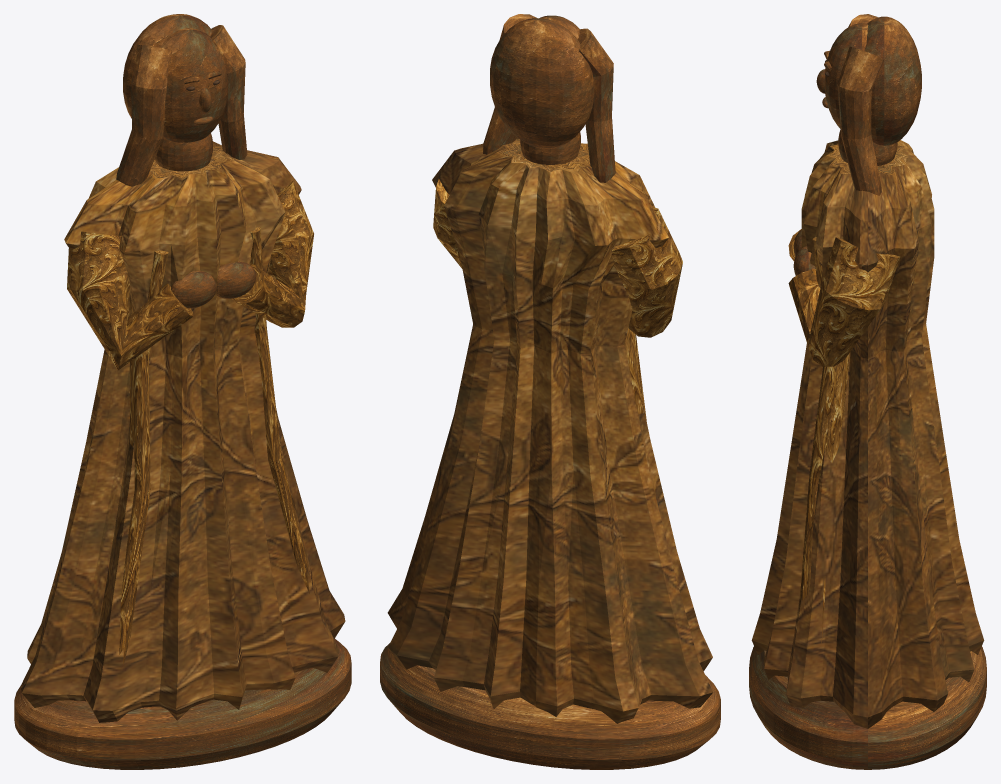
File: statuette.obj
The picture shows the model from 3 angles, left to right: view 1: azimuth 30°, elevation 25°; view 2: azimuth 150°, elevation 25°; view 3: azimuth 270°, elevation 25°; orthographic projection. The views are drawn at different scales.
Visible parts, largest first — view 1: robe, plinth, sleeve-1, sleeve1, robe_fold-1, head, hair-1, robe_fold1, hair1, hair_back, neck, hand-1 (+1 smaller); view 2: robe, plinth, hair_back, sleeve-1, hair-1, neck, hair1, sleeve1, robe_fold-1; view 3: robe, plinth, sleeve1, hair_back, hair1, robe_fold1, head, neck.
Part boxes in pixels (x1=…): robe: x1=20, y1=141, x2=345, y2=722; plinth: x1=14, y1=638, x2=351, y2=769; sleeve-1: x1=67, y1=231, x2=193, y2=370; sleeve1: x1=232, y1=181, x2=313, y2=327; robe_fold-1: x1=119, y1=250, x2=168, y2=665; head: x1=161, y1=28, x2=228, y2=142; hair-1: x1=116, y1=45, x2=172, y2=186; robe_fold1: x1=250, y1=227, x2=309, y2=593; hair1: x1=210, y1=25, x2=247, y2=159; hair_back: x1=123, y1=14, x2=212, y2=117; neck: x1=155, y1=133, x2=212, y2=171; hand-1: x1=171, y1=271, x2=216, y2=308; robe: x1=387, y1=137, x2=713, y2=723; plinth: x1=380, y1=643, x2=720, y2=769; hair_back: x1=490, y1=18, x2=594, y2=147; sleeve-1: x1=611, y1=207, x2=682, y2=337; hair-1: x1=577, y1=28, x2=615, y2=182; neck: x1=520, y1=132, x2=580, y2=164; hair1: x1=483, y1=14, x2=537, y2=154; sleeve1: x1=433, y1=179, x2=462, y2=268; robe_fold-1: x1=624, y1=328, x2=646, y2=420; robe: x1=751, y1=140, x2=984, y2=728; plinth: x1=749, y1=646, x2=986, y2=769; sleeve1: x1=788, y1=237, x2=900, y2=366; hair_back: x1=865, y1=16, x2=921, y2=145; hair1: x1=837, y1=46, x2=884, y2=195; robe_fold1: x1=798, y1=237, x2=849, y2=643; head: x1=825, y1=23, x2=868, y2=128; neck: x1=838, y1=129, x2=897, y2=165.
Size of the model in its own units: 56.48 by 116 by 36.75.
4 materials, 4 textured.
